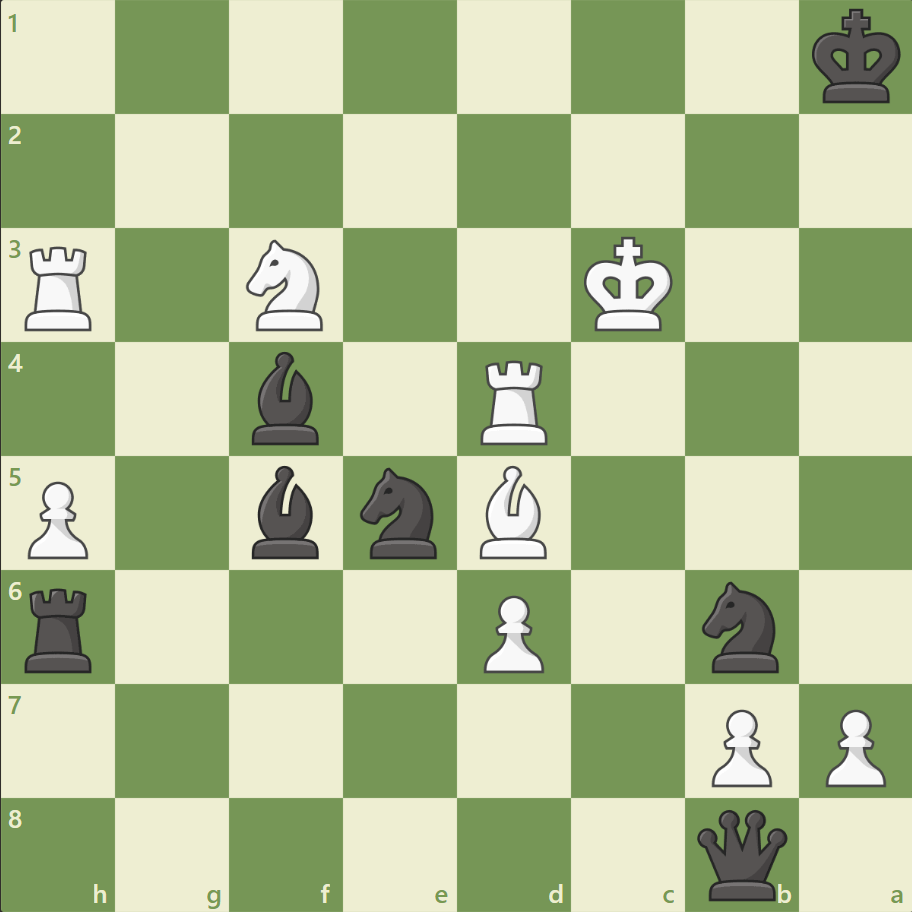B: (471, 460, 555, 563)
K: (579, 231, 679, 339)
N: (238, 234, 335, 337)
P: (701, 700, 776, 791), (474, 586, 549, 677), (20, 473, 95, 564), (815, 700, 889, 791)
R: (473, 352, 556, 449), (19, 239, 102, 336)
b: (244, 460, 328, 563), (244, 347, 328, 449)
k: (806, 4, 906, 112)
n: (351, 461, 449, 564), (692, 575, 789, 677)
q: (691, 804, 790, 903)
r: (19, 579, 102, 676)
